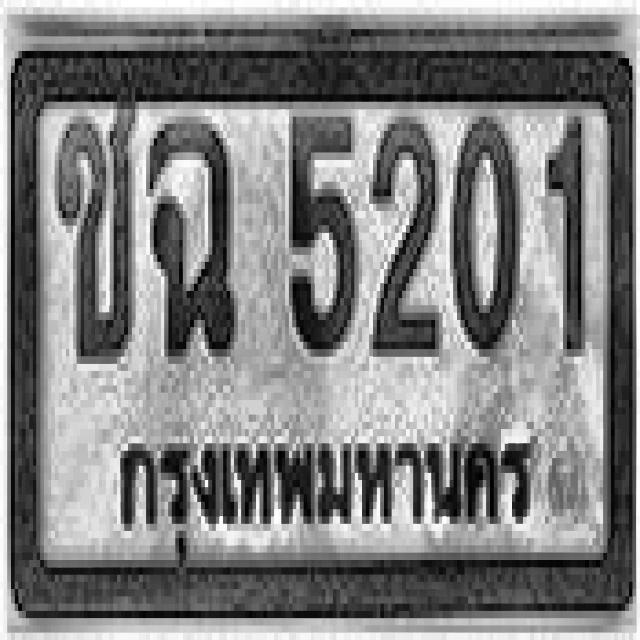license-plate: (9, 39, 637, 617)
